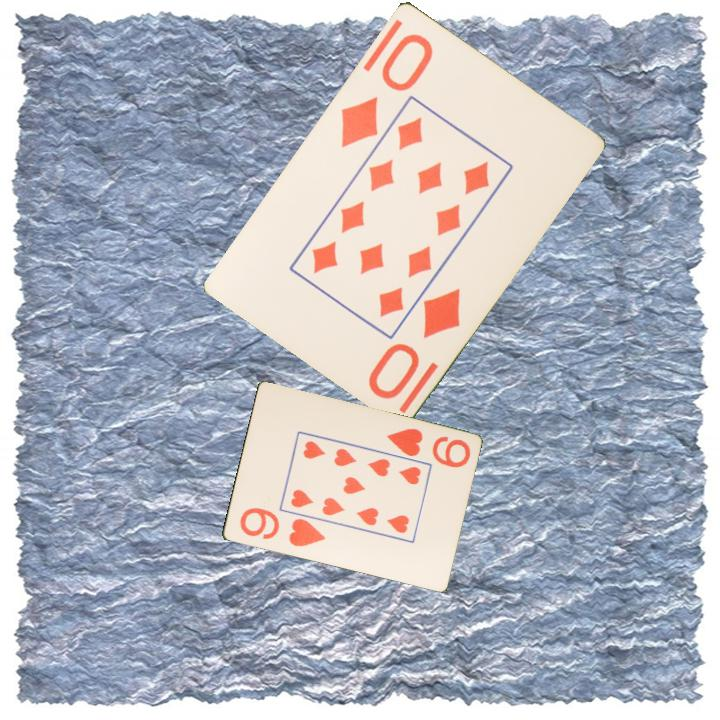10d: (336, 29, 436, 150), (364, 284, 464, 402)
9h: (236, 504, 328, 550), (383, 425, 473, 471)
